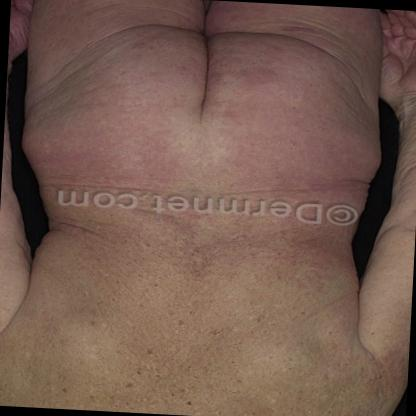Eczema: (268, 226, 353, 283), (210, 140, 288, 202), (102, 10, 190, 61), (234, 55, 320, 107), (96, 102, 175, 155), (264, 97, 338, 153), (141, 146, 213, 202), (164, 223, 224, 289), (107, 60, 178, 115), (73, 214, 133, 278), (209, 96, 275, 152), (325, 82, 383, 139), (55, 67, 120, 116), (272, 143, 336, 192), (316, 136, 380, 184), (20, 148, 96, 188), (28, 108, 99, 150), (206, 58, 271, 100), (88, 146, 147, 192), (90, 191, 144, 235), (39, 0, 107, 34), (45, 181, 92, 226), (220, 227, 272, 261), (278, 18, 334, 49), (40, 36, 78, 74)
